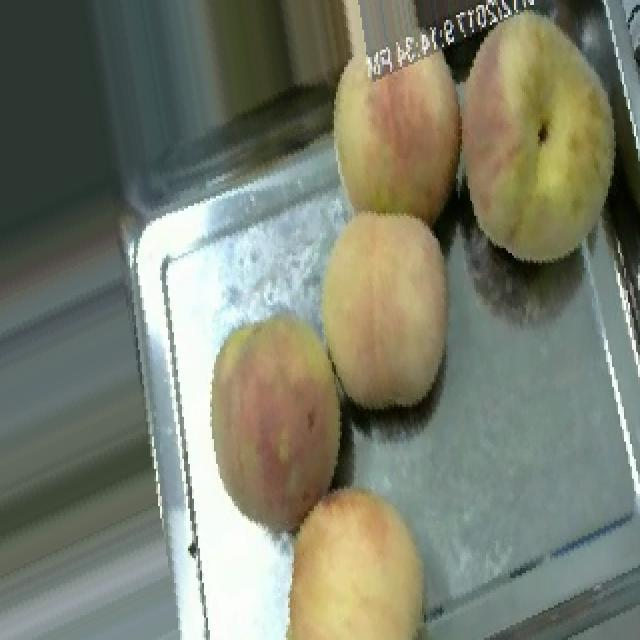Fruit: (456, 0, 640, 288), (182, 298, 378, 553), (294, 194, 486, 436), (300, 22, 460, 258), (258, 461, 456, 640)
